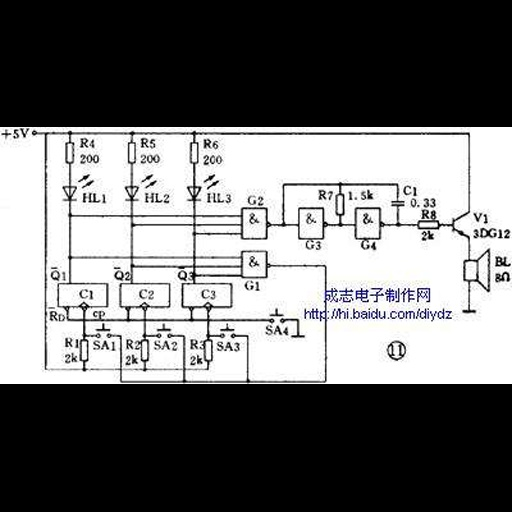capacitor: (389, 197, 407, 212)
firstresistance: (63, 140, 77, 167), (125, 140, 138, 167), (413, 219, 442, 231), (188, 140, 200, 167), (334, 192, 346, 219), (140, 338, 151, 364), (204, 338, 215, 364), (79, 339, 90, 364)
loudspeaker: (456, 248, 493, 294)
pnp: (449, 208, 472, 240)
secondled: (184, 173, 220, 204), (120, 173, 157, 203), (58, 175, 95, 204)
